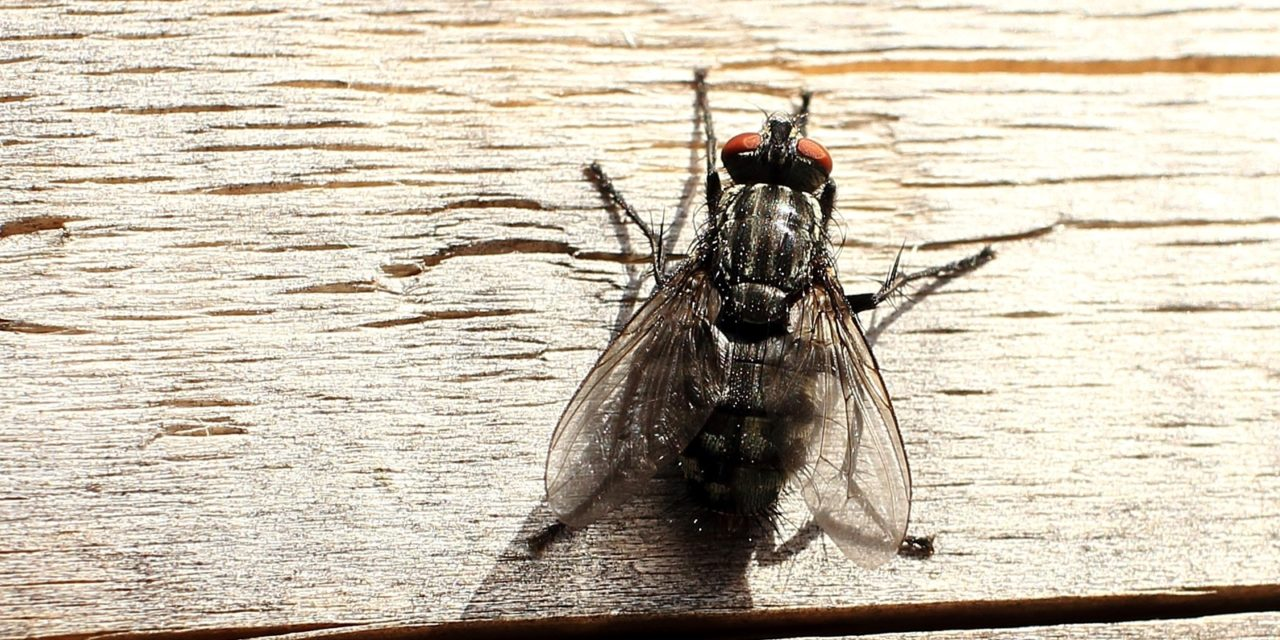fly: (503, 60, 1008, 599)
